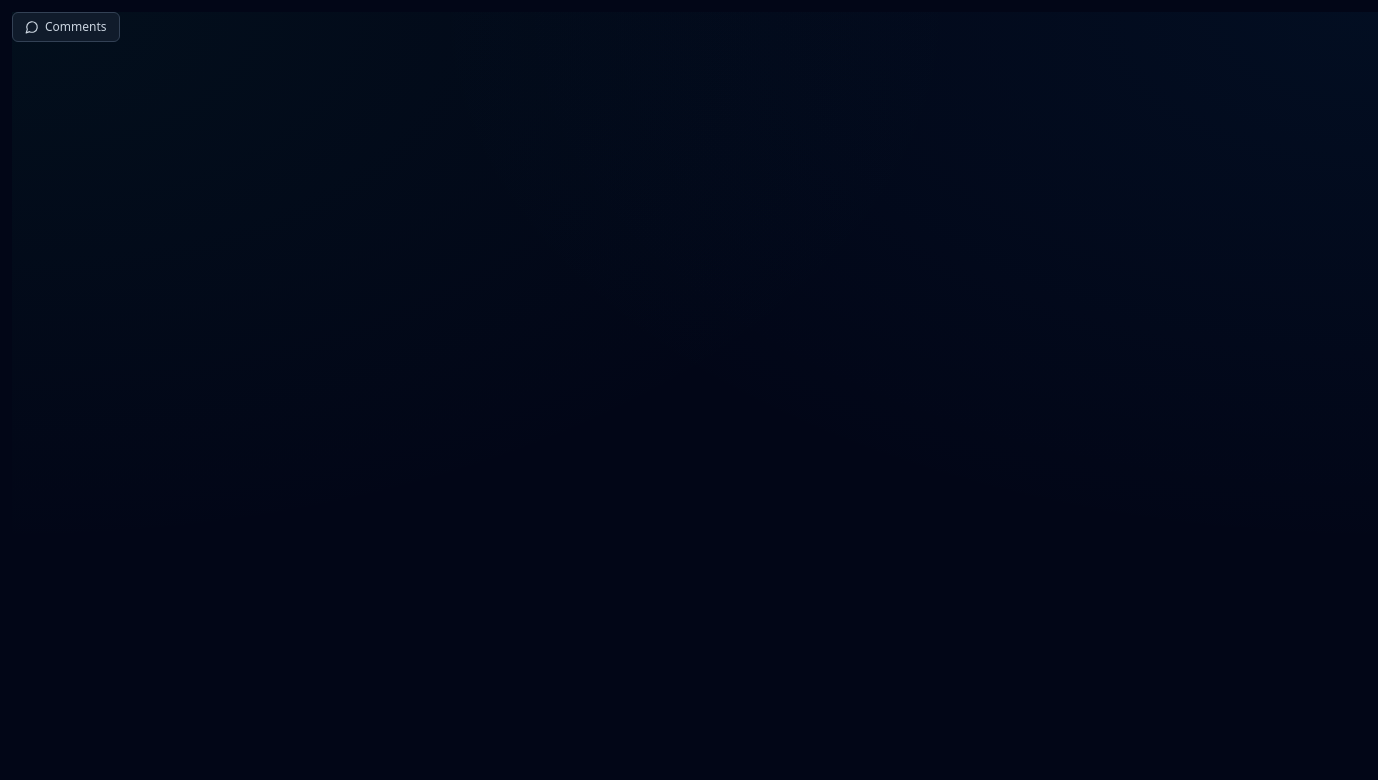
Test: CommentThread — opened state › opens panel when button clicked
Click the button titled "Open comments". click: (66, 27)
box: [12,12,120,42]
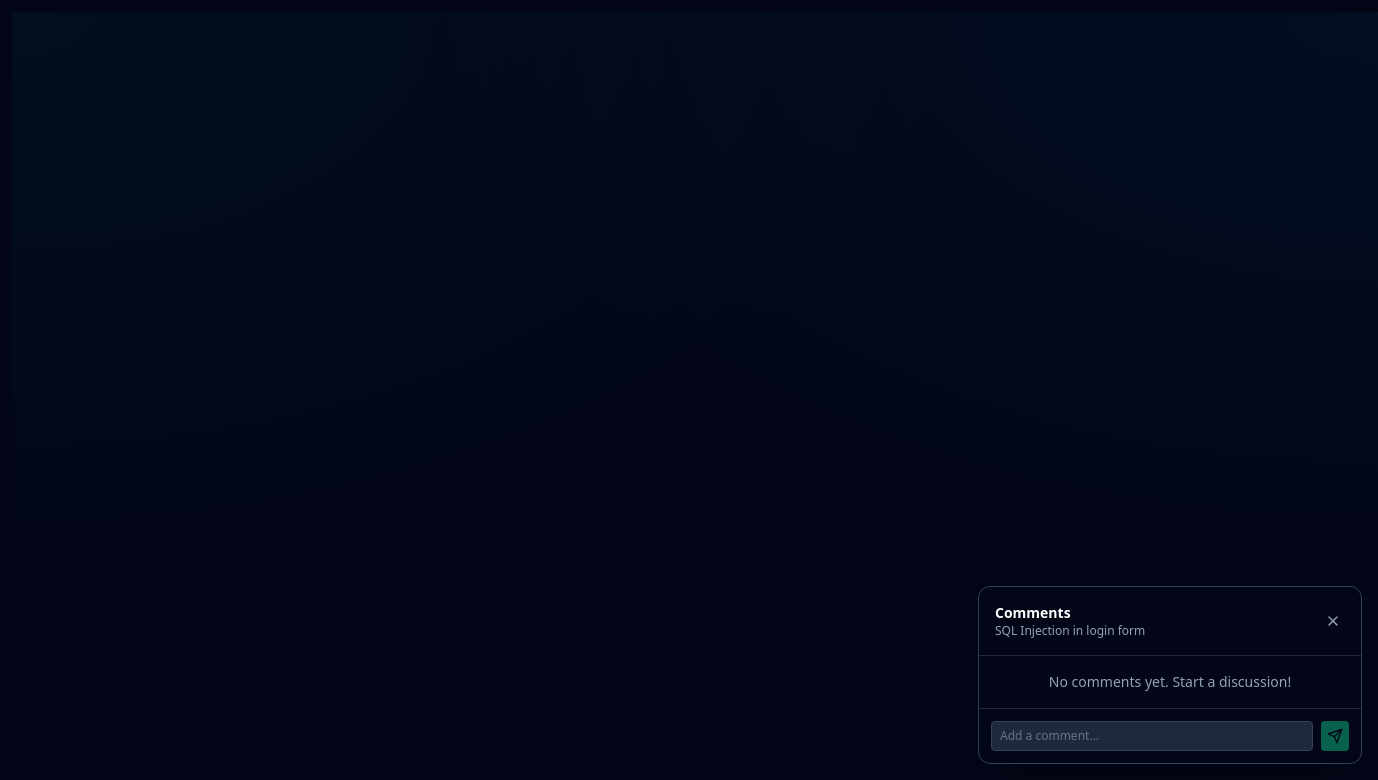
Expected: the button titled "Close comments" is shown, [1321,609,1345,633]
